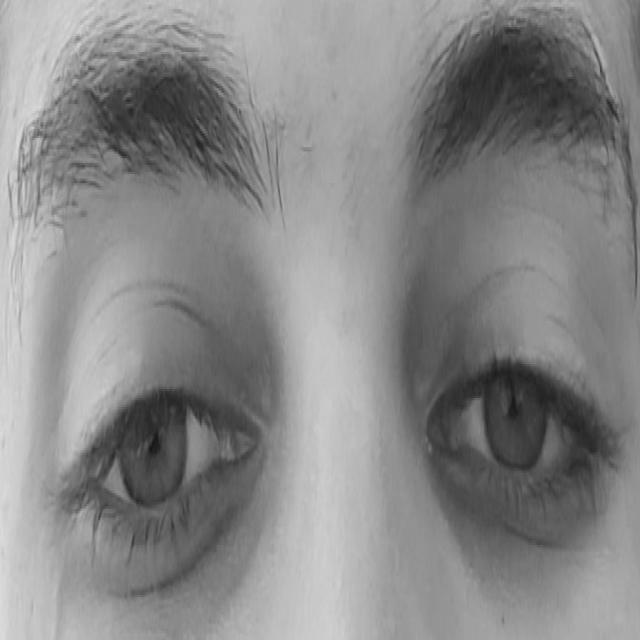real: (28, 250, 631, 604)
